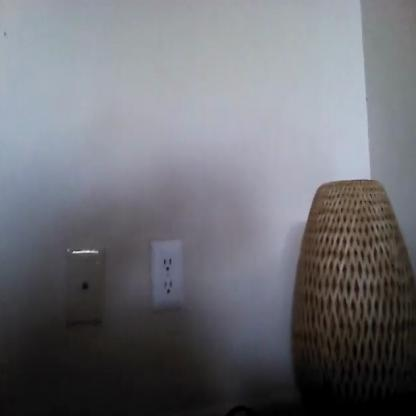OUTLET: (150, 240, 184, 308)
